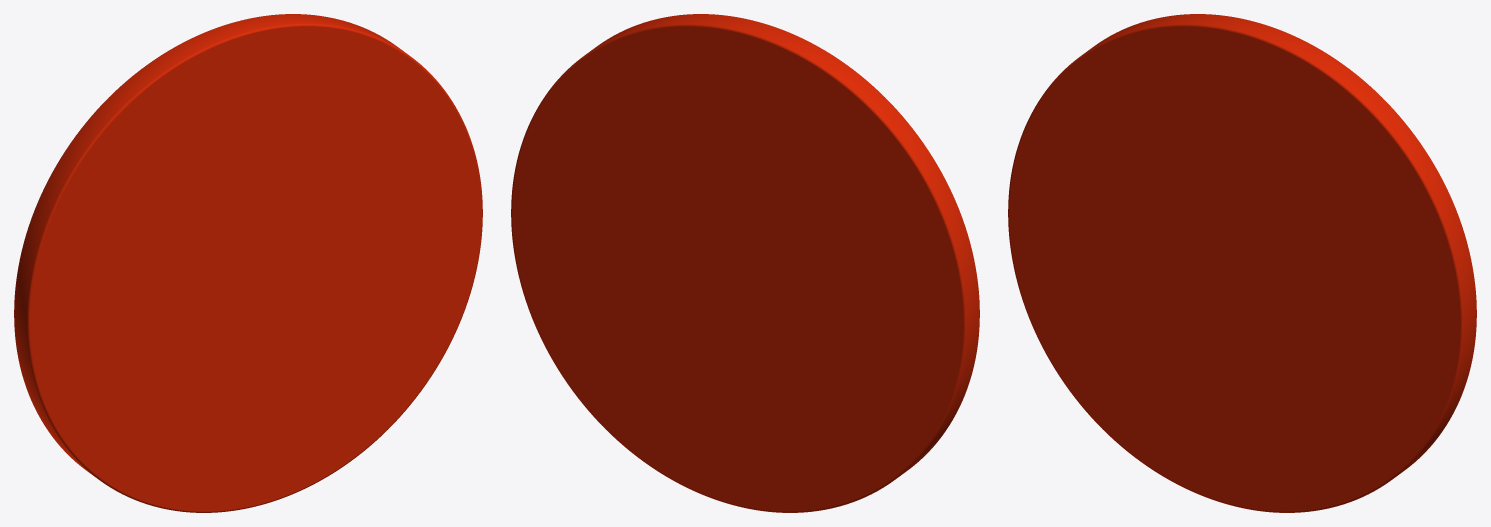
The model's file is lidar_mount_worx_orange.obj.
3 views of the same model, side by side, from view 1: azimuth 30°, elevation 25°; view 2: azimuth 150°, elevation 25°; view 3: azimuth 330°, elevation 25° (orthographic).
Parts seen in each view (by area): view 1: lidar_mount__lidar_band; view 2: lidar_mount__lidar_band; view 3: lidar_mount__lidar_band.
Part boxes in pixels (<box>): lidar_mount__lidar_band: <box>14,14,482,512</box>; lidar_mount__lidar_band: <box>511,14,979,512</box>; lidar_mount__lidar_band: <box>1008,14,1476,512</box>.
Size of the model in its own units: 0.0704 by 0.0704 by 0.004.
